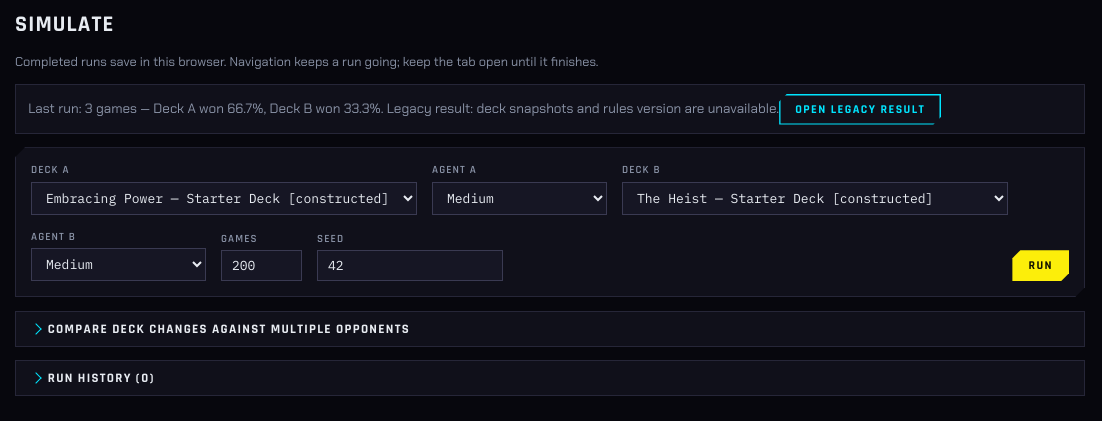
SimulateView — last-result banner › does not resurface once a new run is started (minor fix: stale banner during a second run)
Check: the element with test id "sim-last-result-banner" is shown, box [15,84,1085,134]
Step 1. Click the button with test id "sim-run" → click(1041, 266), box [1012,250,1069,281]
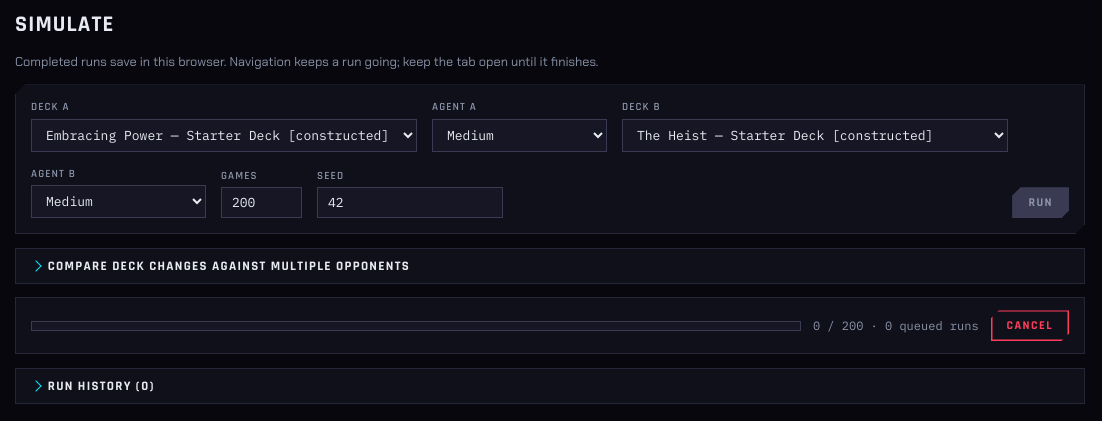
Check: the element with test id "sim-last-result-banner" is gone
